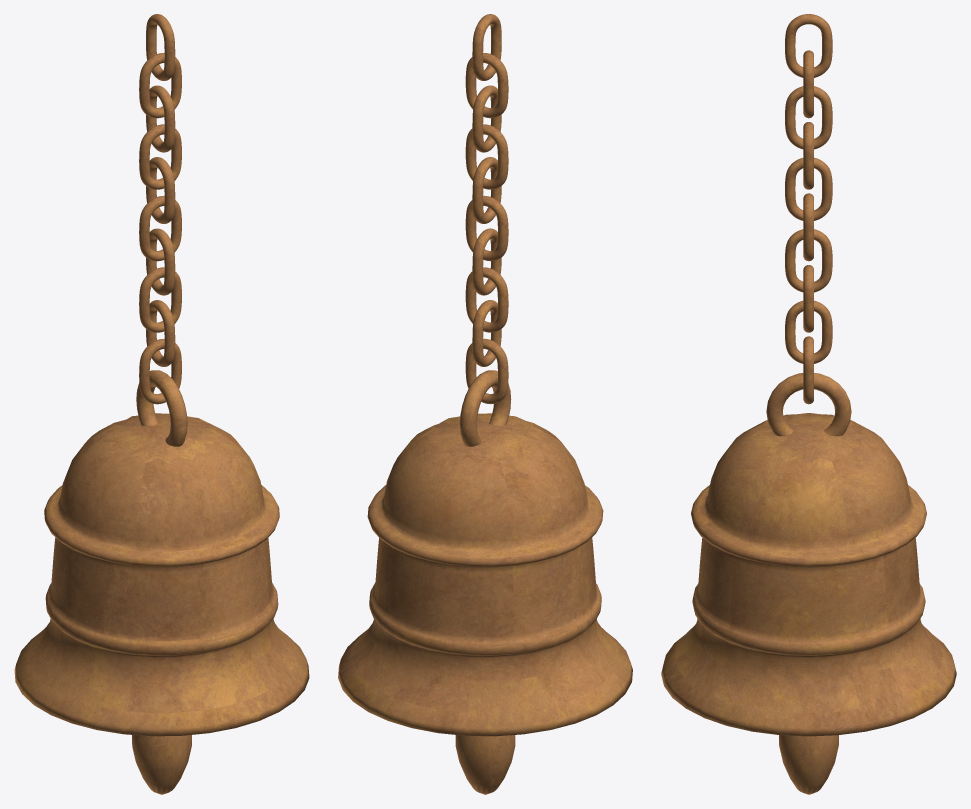
File: bell_Pivotfixed.fbx
3 renders of one model, left to right at view 1: azimuth 30°, elevation 25°; view 2: azimuth 150°, elevation 25°; view 3: azimuth 270°, elevation 25°, orthographic.
Parts seen in each view (by area): view 1: Cylinder; view 2: Cylinder; view 3: Cylinder.
Boxes of the visible parts, left/top/right/bottom form: Cylinder: left=14, top=14, right=309, bottom=794; Cylinder: left=338, top=14, right=632, bottom=794; Cylinder: left=661, top=14, right=956, bottom=794.
Bounding box in the file's own units: 71.13 × 207 × 71.13.
